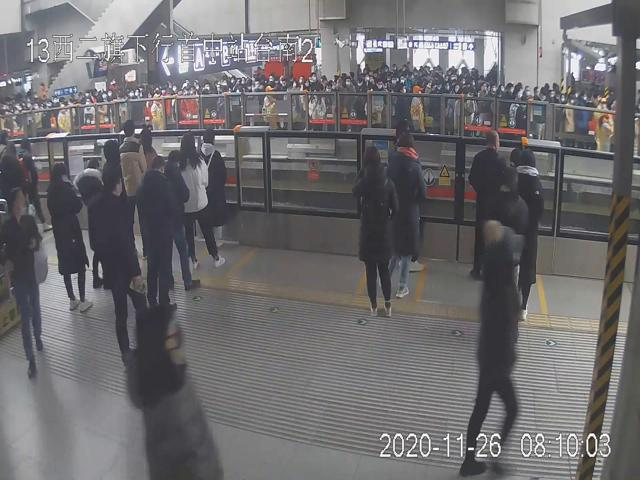person: (88, 164, 150, 370), (3, 184, 48, 380), (353, 145, 397, 316), (47, 164, 93, 313), (175, 133, 225, 270), (388, 128, 427, 299), (136, 155, 179, 309), (470, 129, 507, 280), (515, 148, 546, 323), (165, 148, 201, 293), (198, 127, 226, 248)
